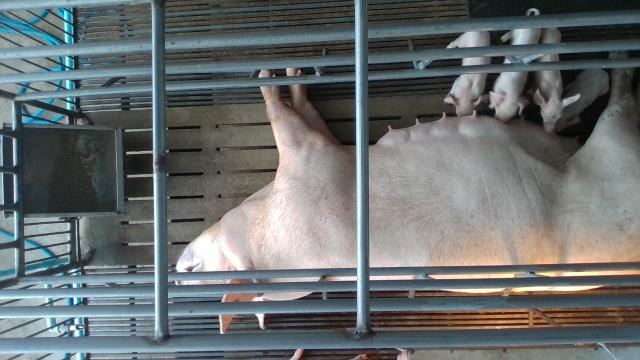piglet: (488, 7, 536, 122), (534, 27, 581, 133), (445, 30, 488, 115), (552, 70, 608, 133)
sow-sleep-lactate: (176, 52, 640, 335)
